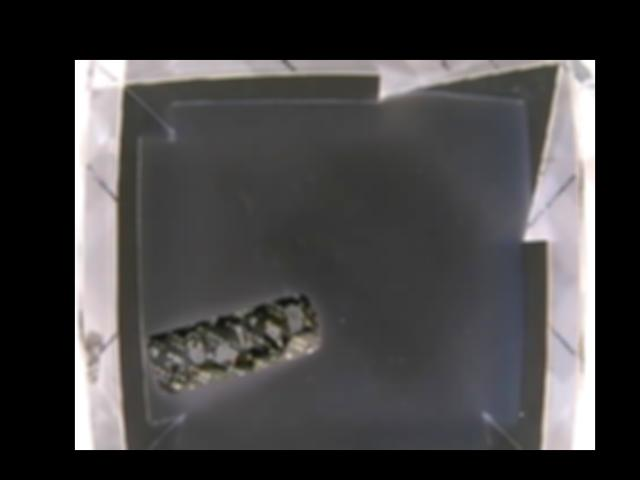Medicine: (143, 294, 321, 394)
